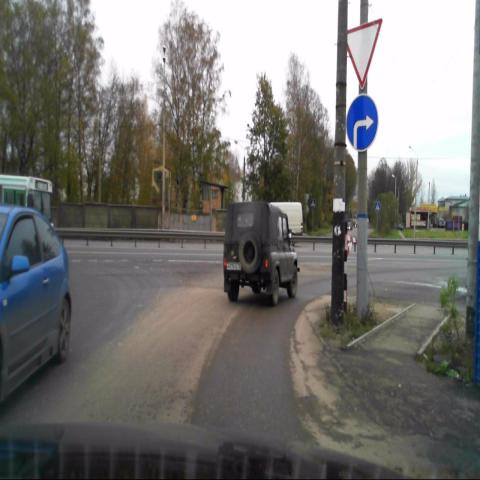2_4: (341, 20, 382, 91)
4_1_2: (346, 94, 378, 150)
